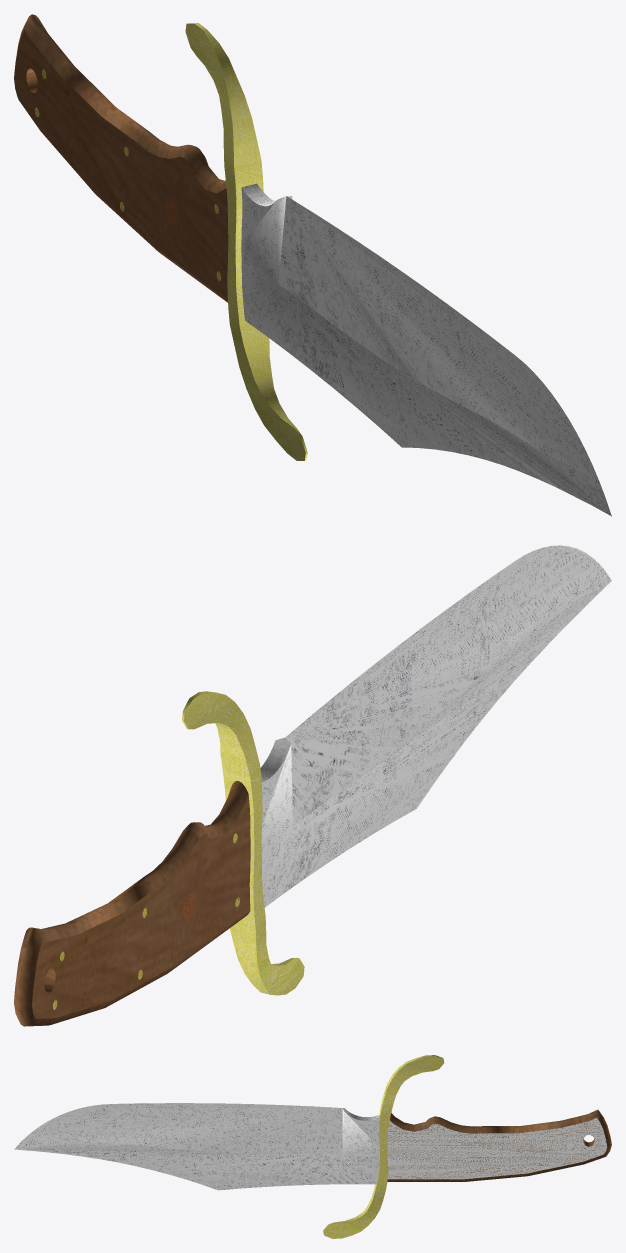
Rendered from model_align.obj.
3 renders of one model, top to bottom at view 1: azimuth 30°, elevation 25°; view 2: azimuth 150°, elevation 25°; view 3: azimuth 270°, elevation 25°, orthographic. The views are drawn at different scales.
Visible parts, largest first — view 1: mesh1_mesh1-geometry; view 2: mesh1_mesh1-geometry; view 3: mesh1_mesh1-geometry.
Boxes of the visible parts, left/top/right/bottom form: mesh1_mesh1-geometry: left=14, top=14, right=611, bottom=516; mesh1_mesh1-geometry: left=14, top=545, right=611, bottom=1026; mesh1_mesh1-geometry: left=14, top=1055, right=611, bottom=1238.
Size of the model in its own units: 0.0056 by 0.0708 by 0.2098.
